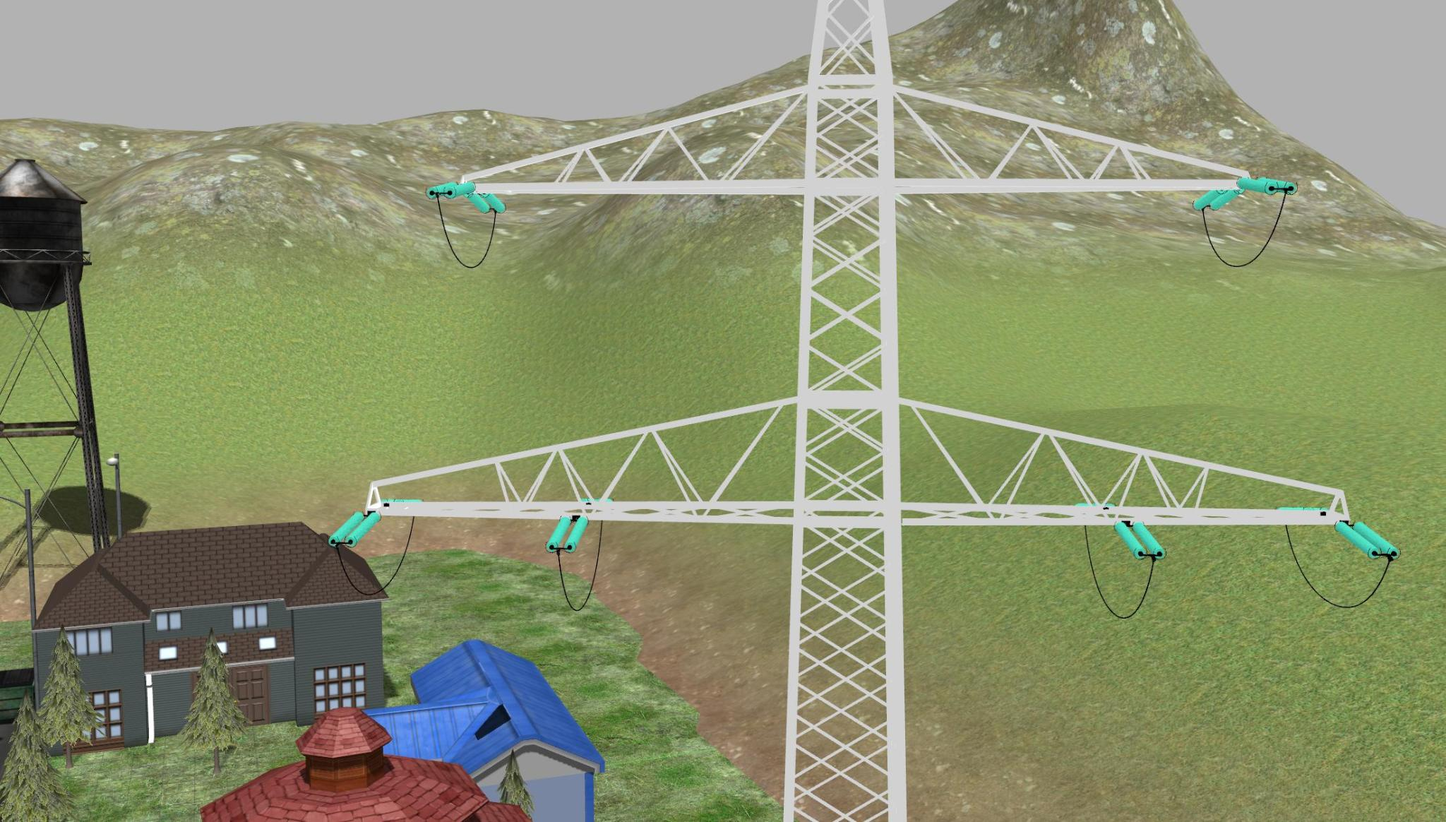tower: (366, 0, 1352, 822)
